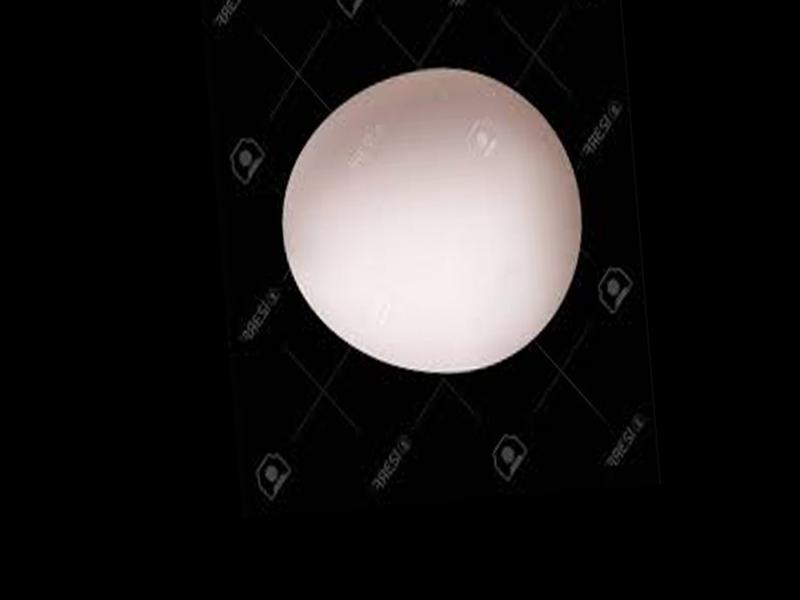Eggs: (273, 62, 591, 384)
